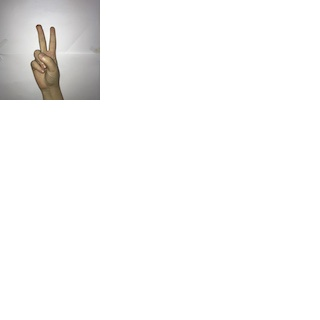scissors: (25, 21, 67, 90)
